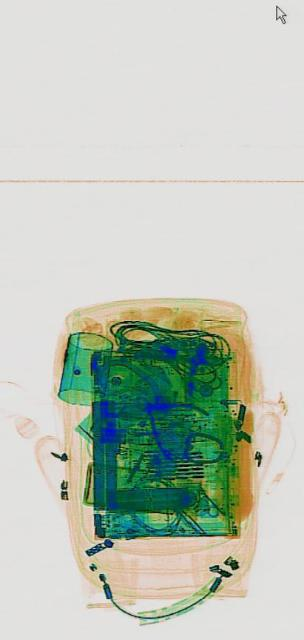Pliers: (132, 362, 206, 478)
